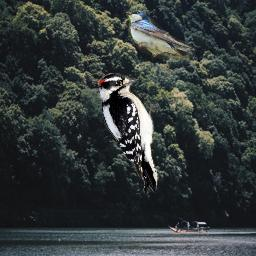Swallow: (126, 10, 195, 62)
Woodpecker: (98, 73, 159, 194)
